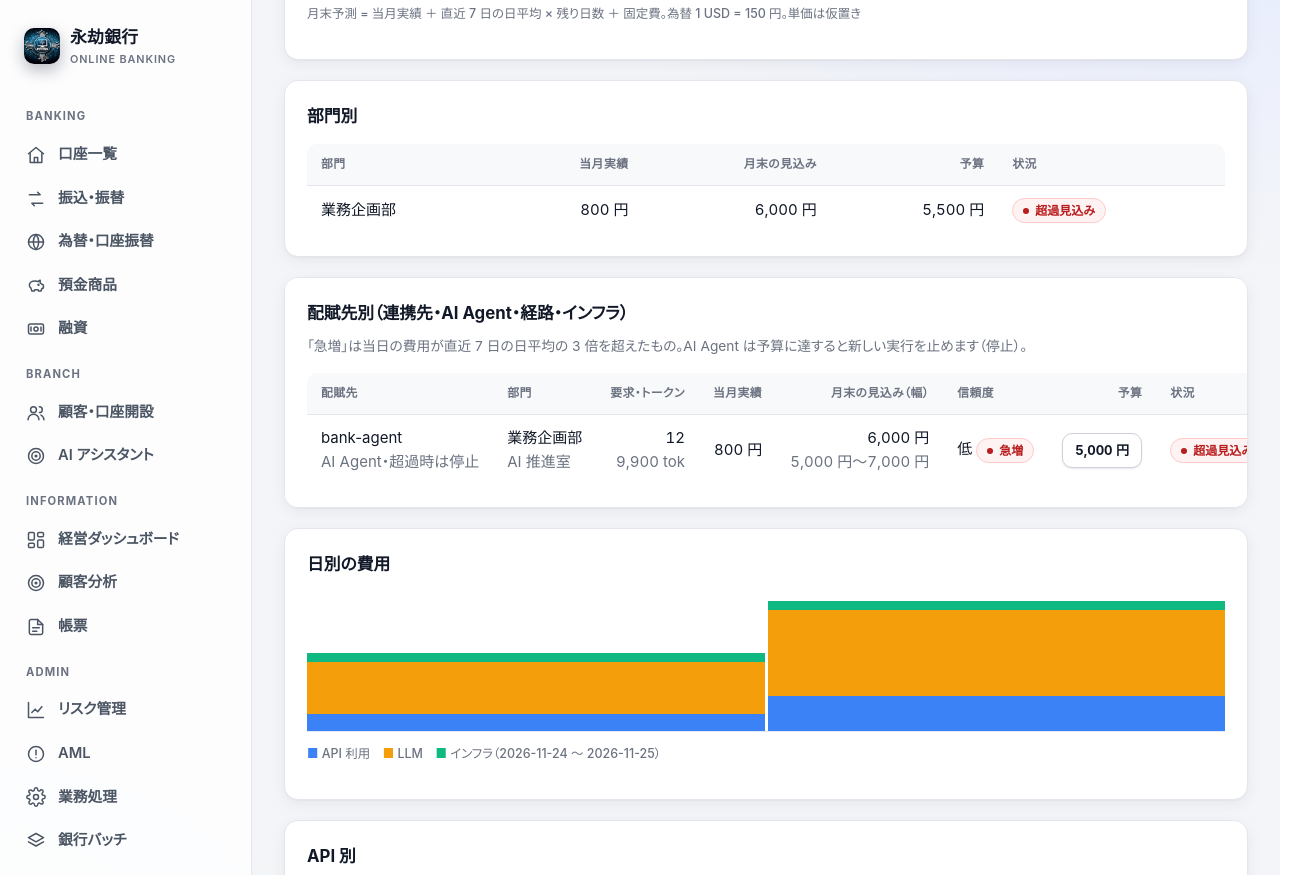
Scenario: FinOpsPage › 予算を変更でき、Railway の使用量を取り込める（未設定ならその旨）
The width and height of the screenshot is (1292, 875).
(page scrolled)
Click the button "5,000 円". click: (1102, 450)
box: [1062,432,1142,468]
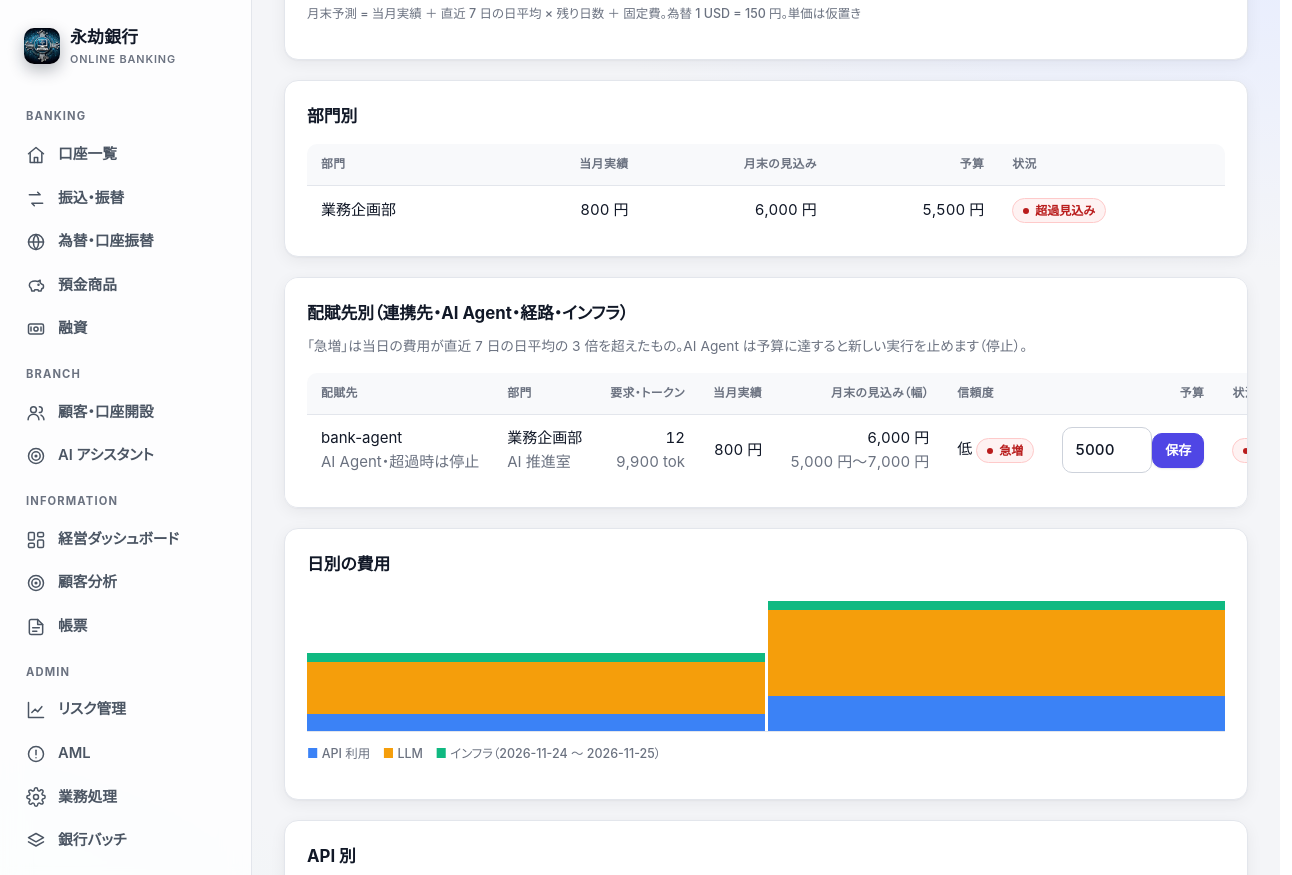
Replace the text in the field named "bank-agent の予算" with "8000". click: (1107, 450)
box: [1062,427,1152,473]
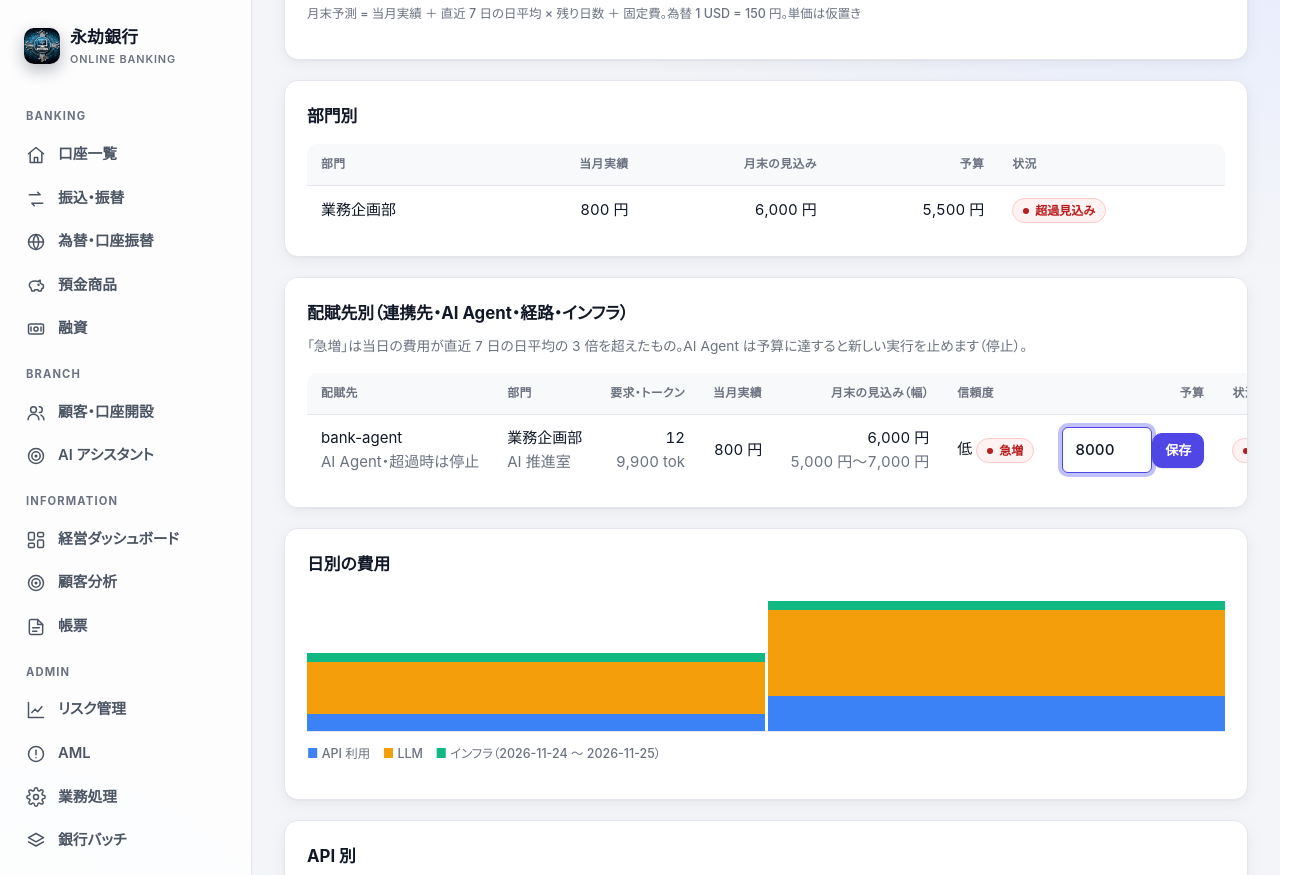
Click the button "保存". click: (1178, 450)
box: [1152,433,1204,468]
(page scrolled)
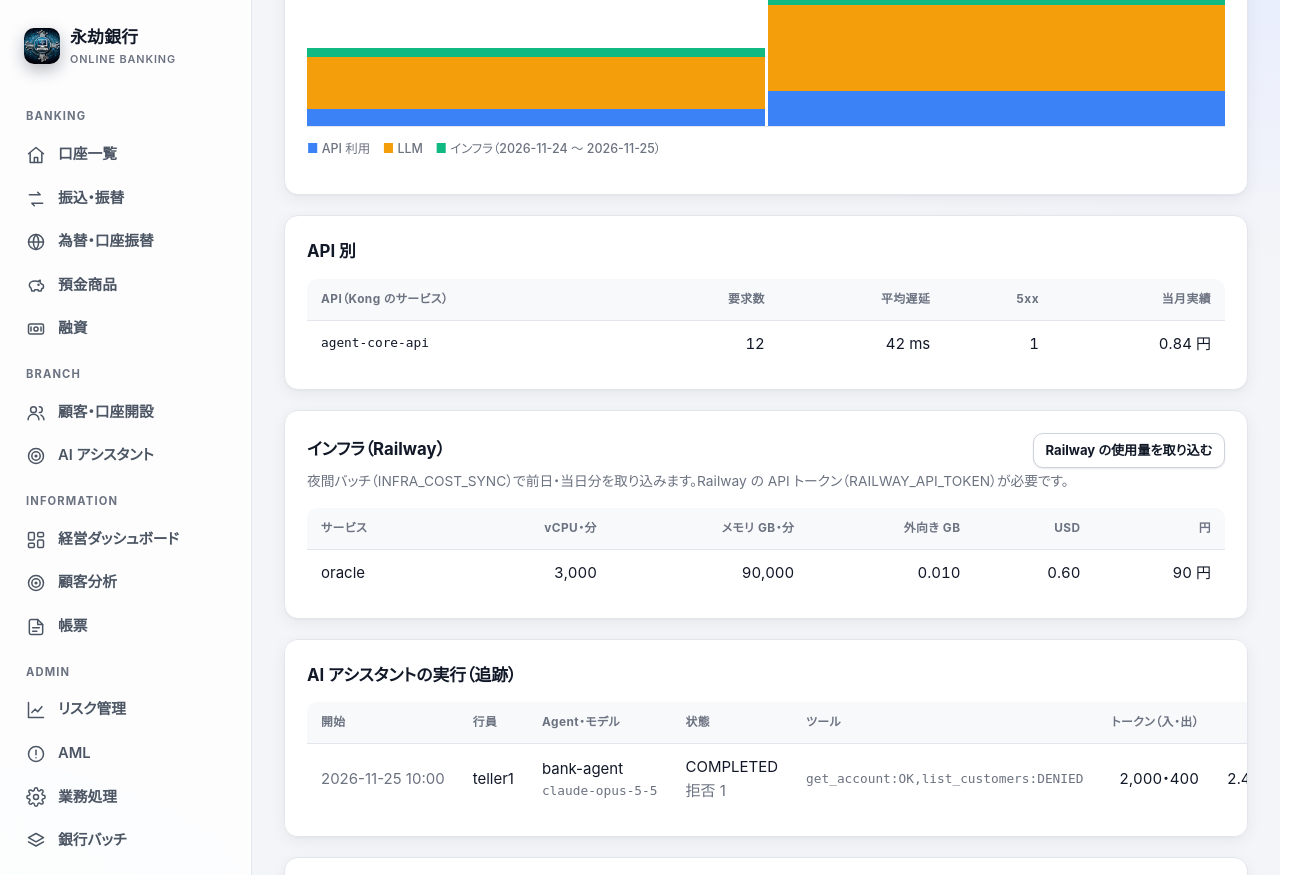
Click the button "Railway の使用量を取り込む". click: (1129, 450)
box: [1033,433,1225,468]
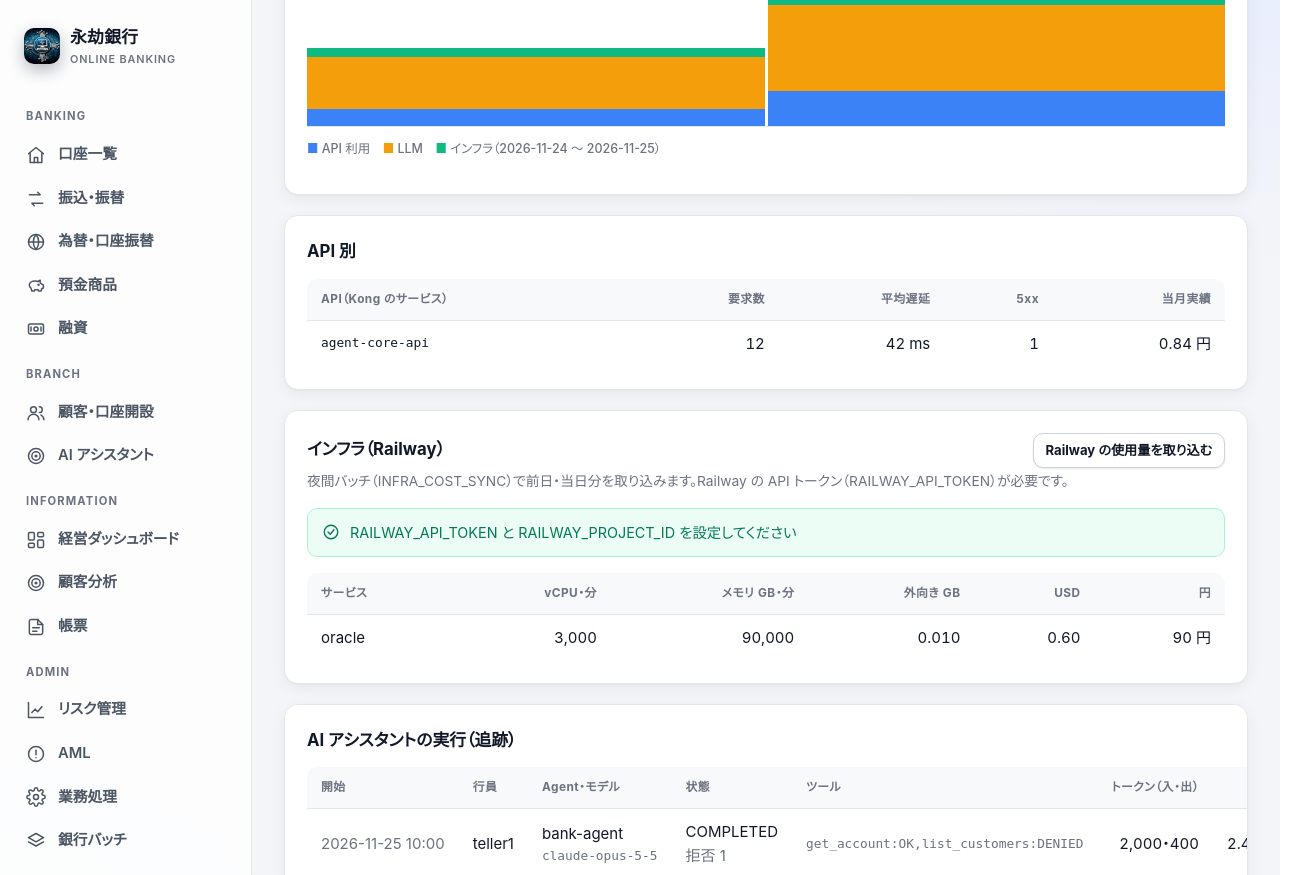
Result: the text "RAILWAY_API_TOKEN と RAILWAY_PROJECT_ID を設定してください" is shown at [350,521,797,544]
